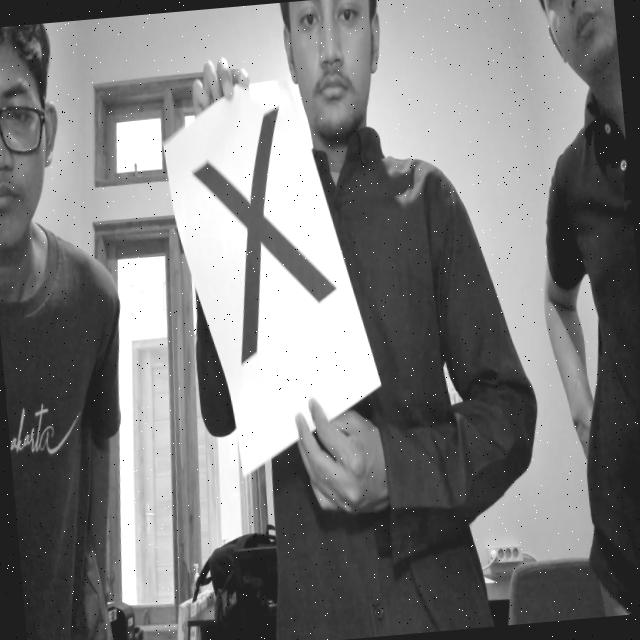x: (177, 90, 350, 368)
